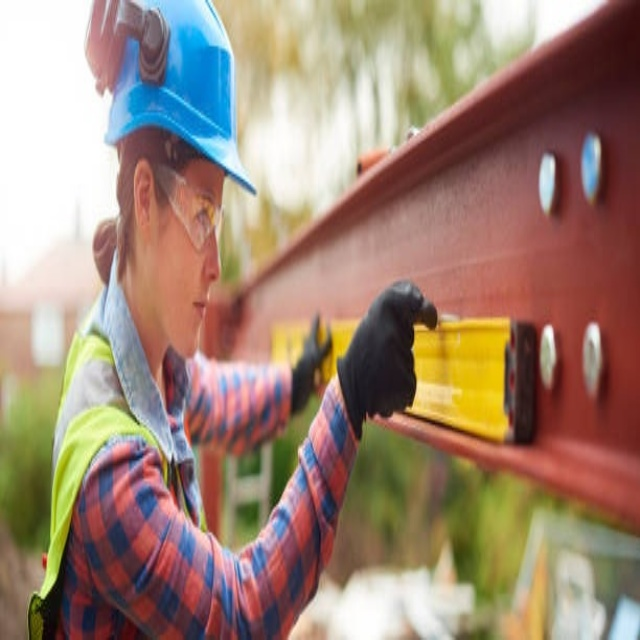Gafas: (138, 159, 225, 251)
Guantes: (338, 277, 436, 438), (289, 313, 331, 417)
Sin_mascara: (175, 276, 214, 356)
